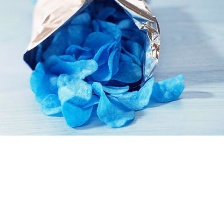snack: (15, 0, 164, 96)
